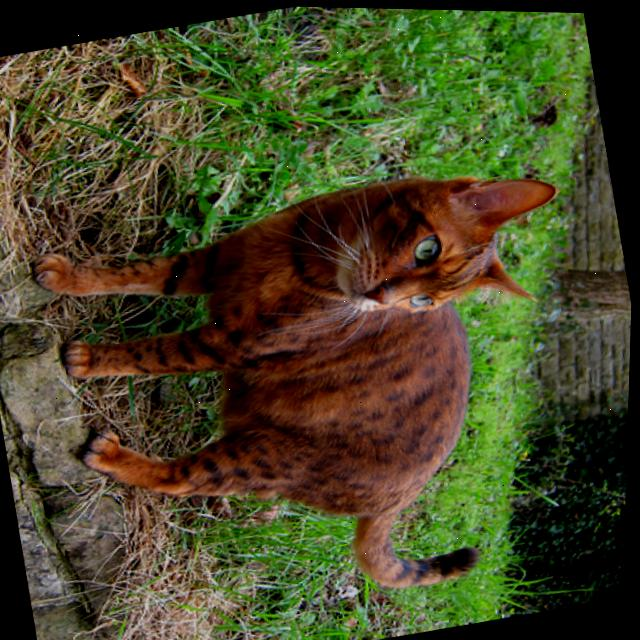Bengal: (6, 124, 637, 640)
